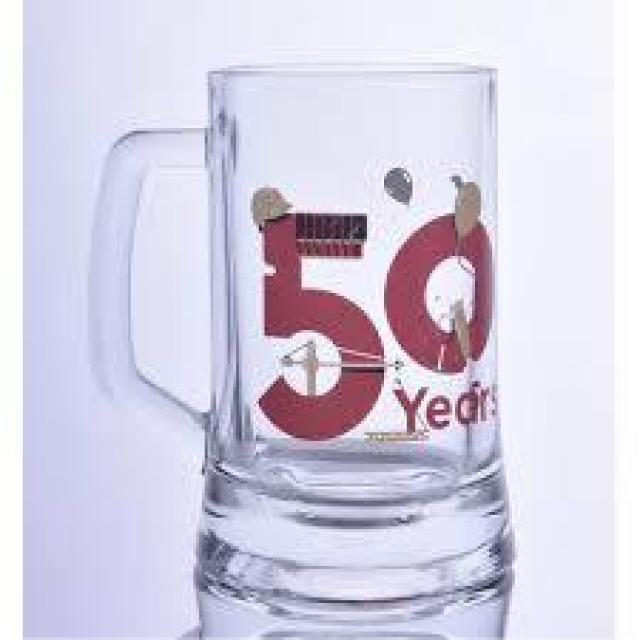glass: (86, 61, 516, 622)
